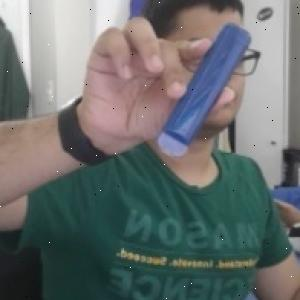Diamond-E-Ciggirate: (152, 18, 257, 163)
